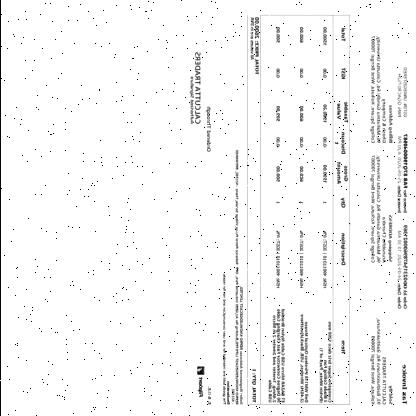Paragraph: (220, 148, 244, 406), (367, 34, 393, 146), (368, 154, 394, 264), (188, 51, 212, 153), (368, 316, 394, 406), (394, 224, 408, 312), (394, 132, 408, 216), (394, 65, 408, 119), (249, 15, 258, 76), (399, 364, 408, 406), (249, 367, 257, 405), (196, 376, 204, 398), (206, 386, 211, 406)
Table: (260, 15, 348, 405)
